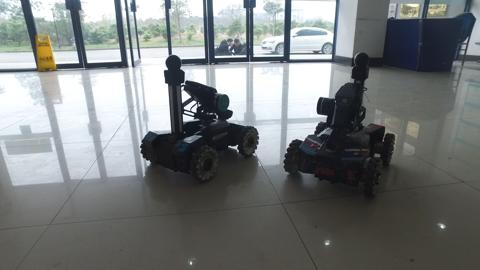car: (258, 20, 336, 57)
chariot: (277, 49, 400, 198), (134, 50, 265, 180)
